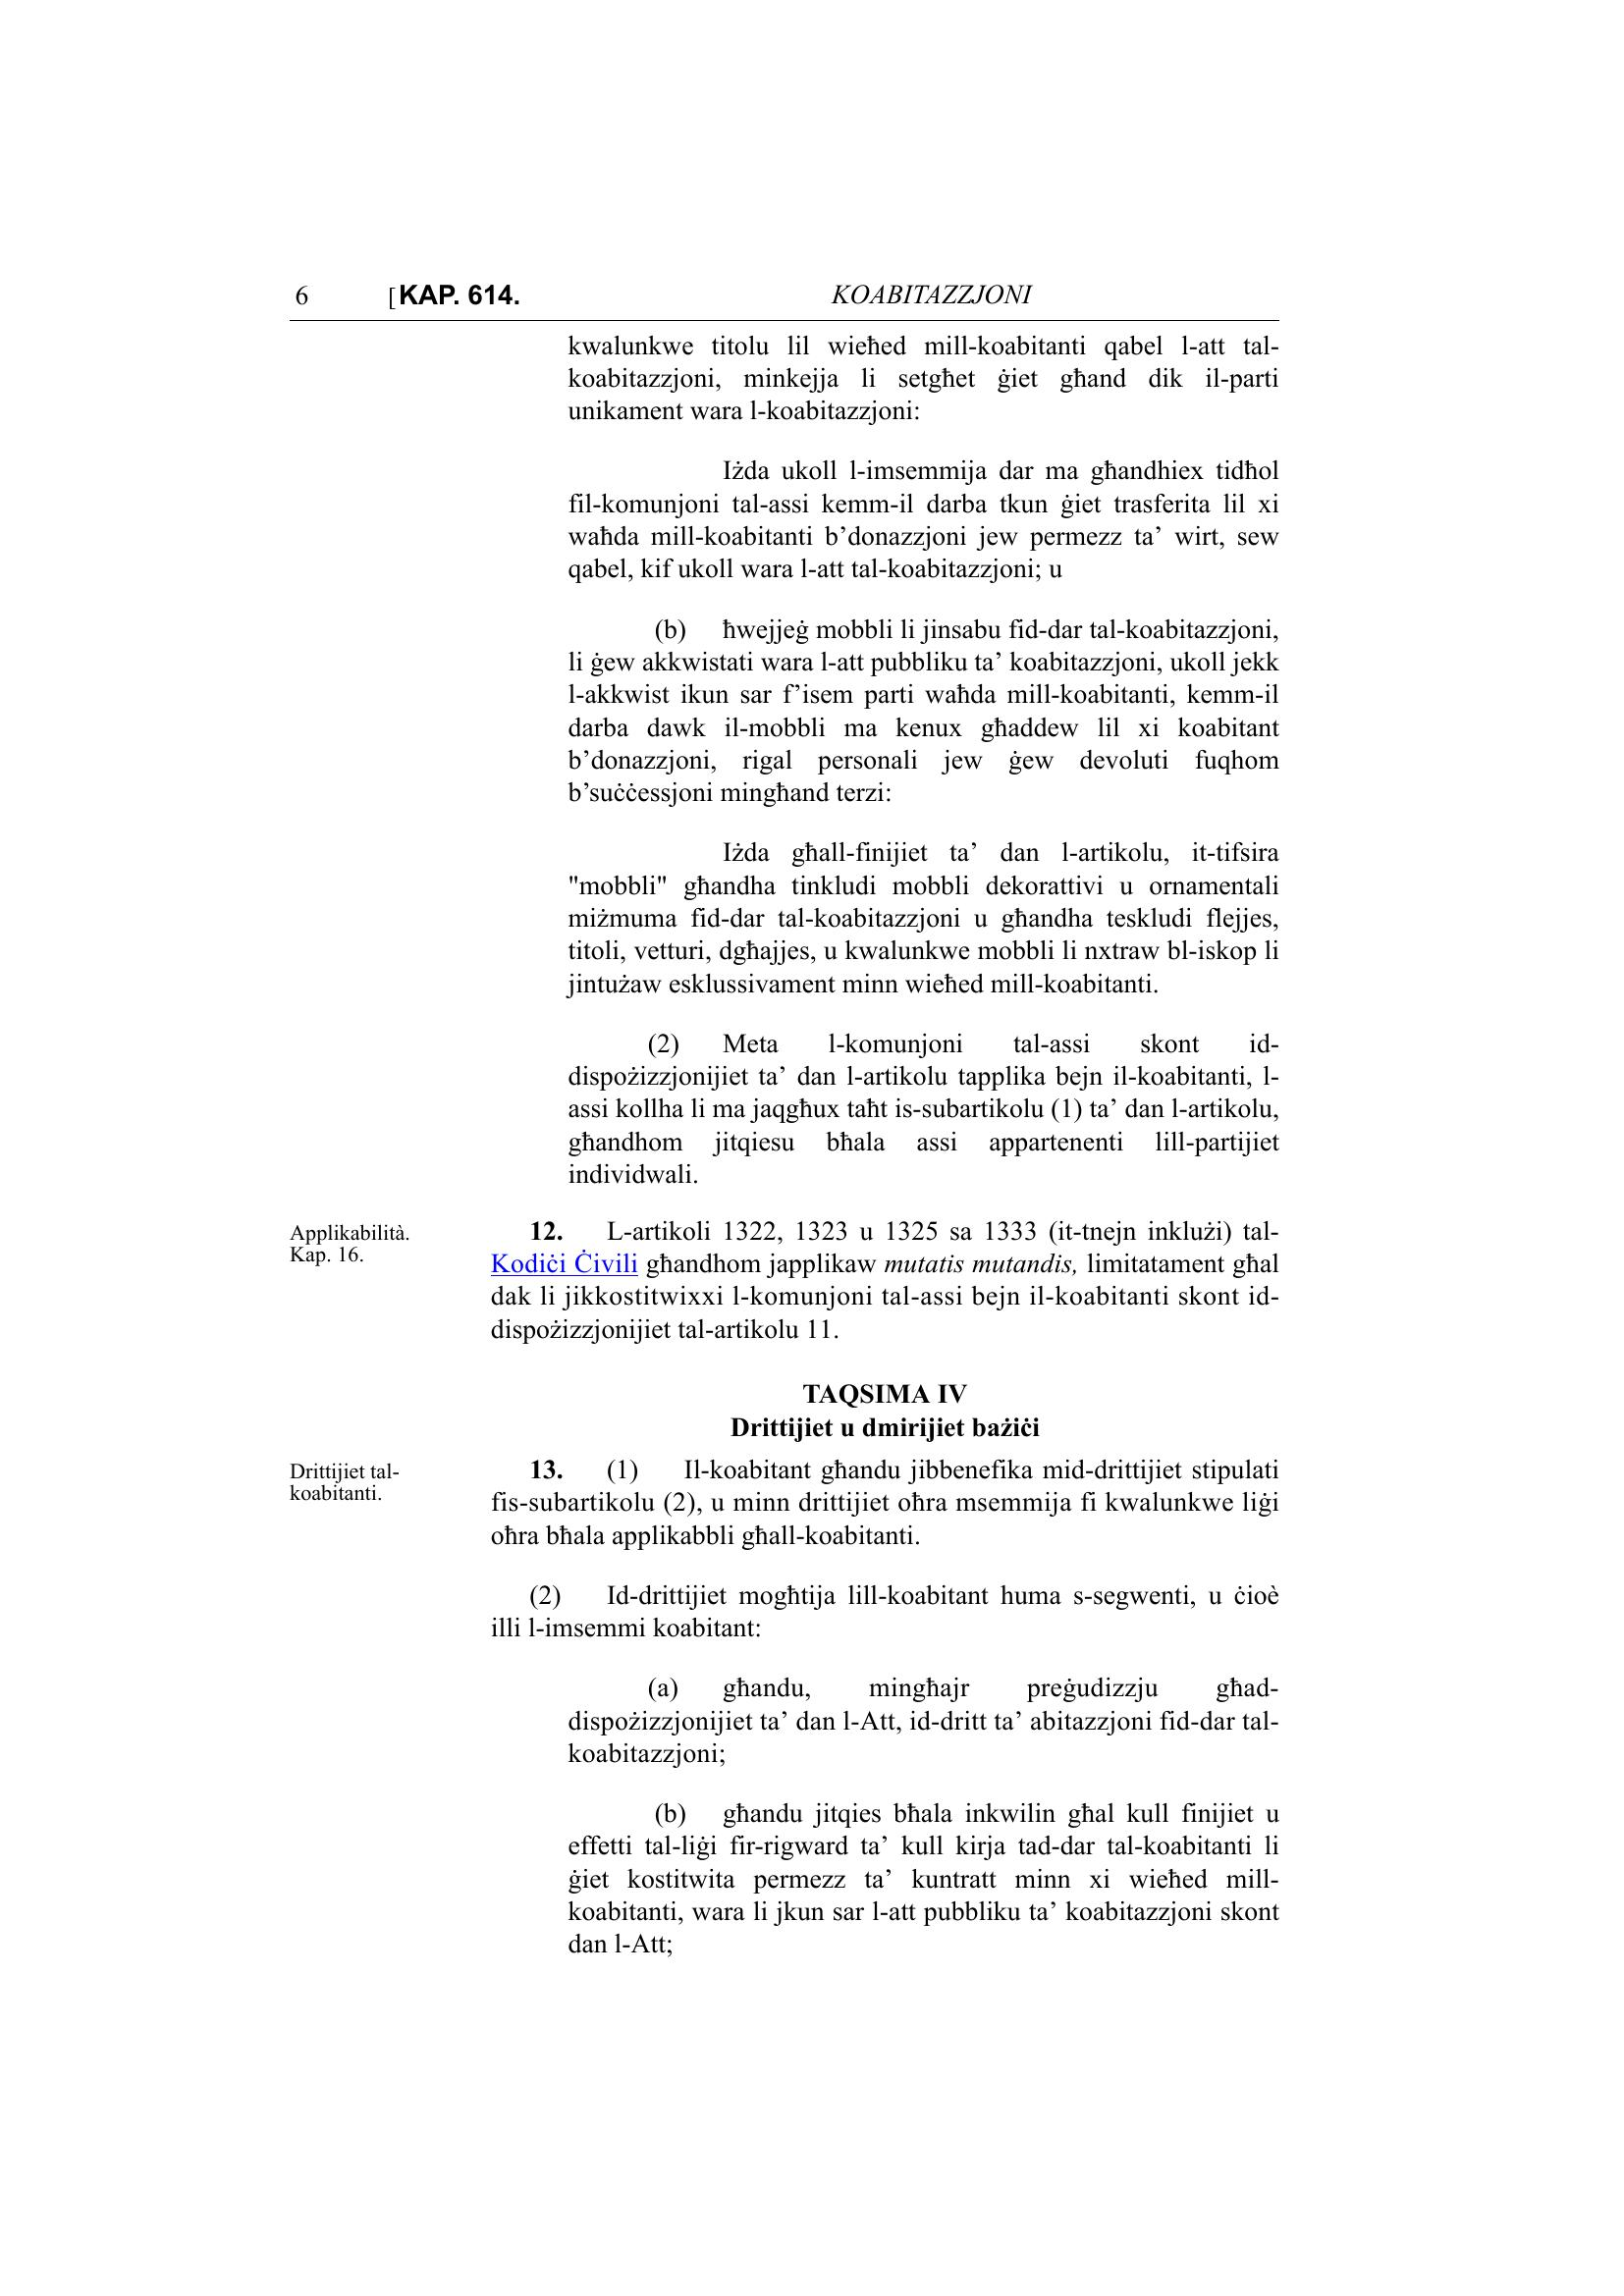text: (469, 327, 1302, 1969)
